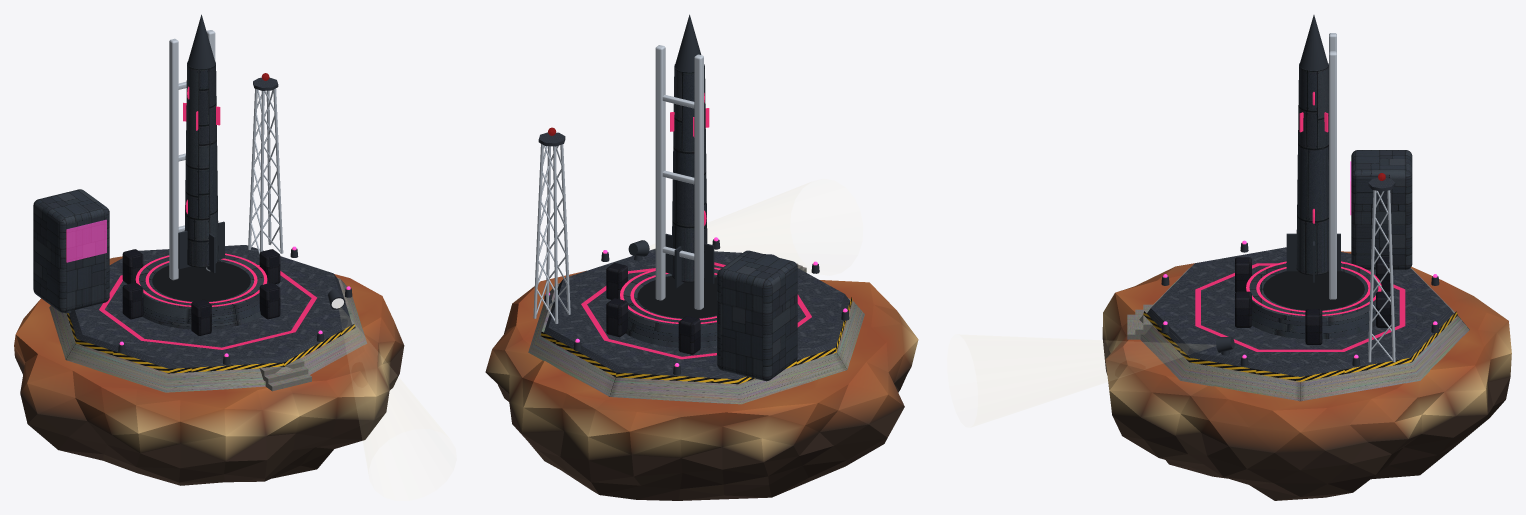
Rendered from hypersonic-L25.glb.
3 renders of one model, left to right at view 1: azimuth 30°, elevation 25°; view 2: azimuth 150°, elevation 25°; view 3: azimuth 270°, elevation 25°, orthographic. The views are drawn at different scales.
Visible parts, largest first — view 1: object 1, object 4, object 37, anim:missile, object 2, object 25, object 26, anim:erector, object 3, object 38, object 5, object 32 (+6 smaller); view 2: object 1, object 4, object 37, object 2, anim:missile, anim:erector, object 25, object 26, object 3, object 5, object 33, object 34 (+1 smaller); view 3: object 1, object 4, anim:missile, object 2, object 37, object 25, object 26, anim:erector, object 3, object 5, object 29, object 30.
Part boxes in pixels (x1=…): object 1: x1=14, y1=256, x2=404, y2=485; object 4: x1=69, y1=245, x2=352, y2=368; object 37: x1=33, y1=189, x2=109, y2=312; anim:missile: x1=178, y1=14, x2=224, y2=272; object 2: x1=49, y1=278, x2=367, y2=392; object 25: x1=134, y1=255, x2=268, y2=329; object 26: x1=152, y1=261, x2=250, y2=301; anim:erector: x1=169, y1=30, x2=215, y2=280; object 3: x1=66, y1=313, x2=355, y2=373; object 38: x1=66, y1=220, x2=106, y2=262; object 5: x1=99, y1=265, x2=316, y2=349; object 32: x1=122, y1=282, x2=143, y2=319; object 1: x1=485, y1=270, x2=918, y2=500; object 4: x1=544, y1=248, x2=849, y2=379; object 37: x1=717, y1=250, x2=797, y2=381; object 2: x1=528, y1=283, x2=864, y2=404; anim:missile: x1=665, y1=14, x2=714, y2=288; anim:erector: x1=655, y1=45, x2=703, y2=309; object 25: x1=618, y1=269, x2=718, y2=347; object 26: x1=637, y1=276, x2=716, y2=318; object 3: x1=540, y1=297, x2=852, y2=384; object 5: x1=581, y1=262, x2=811, y2=359; object 33: x1=678, y1=316, x2=700, y2=354; object 34: x1=606, y1=298, x2=627, y2=337; object 1: x1=1102, y1=251, x2=1511, y2=500; object 4: x1=1147, y1=247, x2=1453, y2=376; anim:missile: x1=1286, y1=15, x2=1340, y2=282; object 2: x1=1139, y1=268, x2=1469, y2=401; object 37: x1=1351, y1=150, x2=1412, y2=269; object 25: x1=1244, y1=263, x2=1382, y2=339; object 26: x1=1263, y1=271, x2=1364, y2=310; anim:erector: x1=1329, y1=33, x2=1336, y2=299; object 3: x1=1143, y1=311, x2=1457, y2=381; object 5: x1=1195, y1=263, x2=1405, y2=351; object 29: x1=1305, y1=309, x2=1322, y2=344; object 30: x1=1235, y1=291, x2=1251, y2=327.
Bounding box in the file's own units: 6.28 × 6.95 × 8.31.
16 materials, 5 textured.
